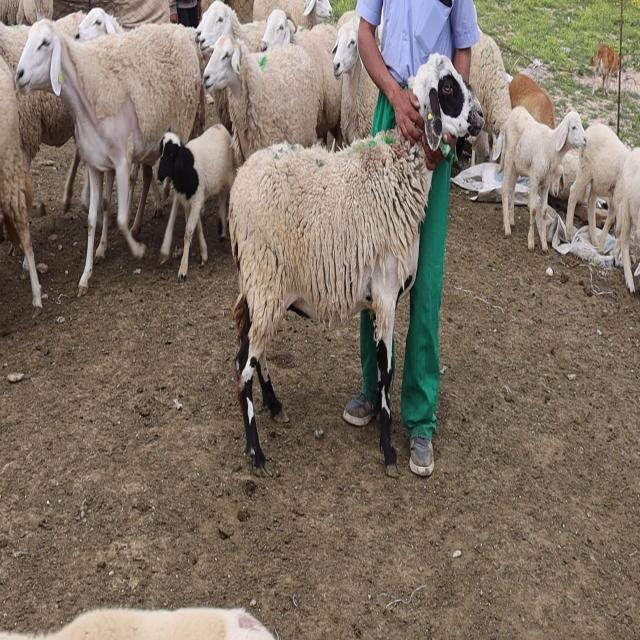Score_2: (228, 53, 484, 476)
